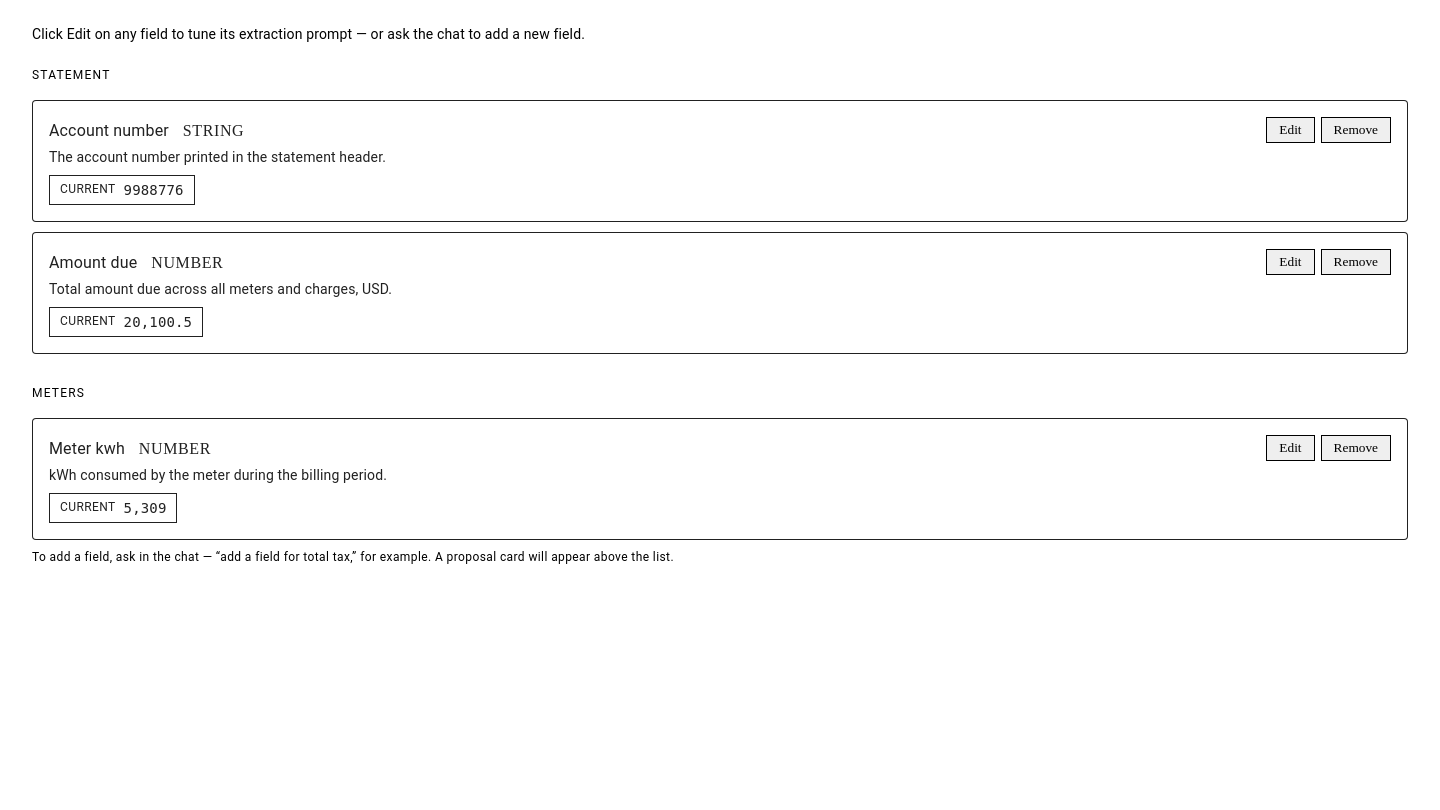
it: SchemaView (UI-01 Phase 1) › identifiers chip array supports add + remove via the editor (expand-inline-editor-fields)
Expected: the element with test id "schema-field-account_number" is shown, [32, 100, 1408, 222]
Expected: the element with test id "schema-field-value-account_number" shows "9988776", [124, 182, 184, 198]
Click the button with test id "schema-edit-field-account_number" at (1290, 130), box [1266, 117, 1315, 143]
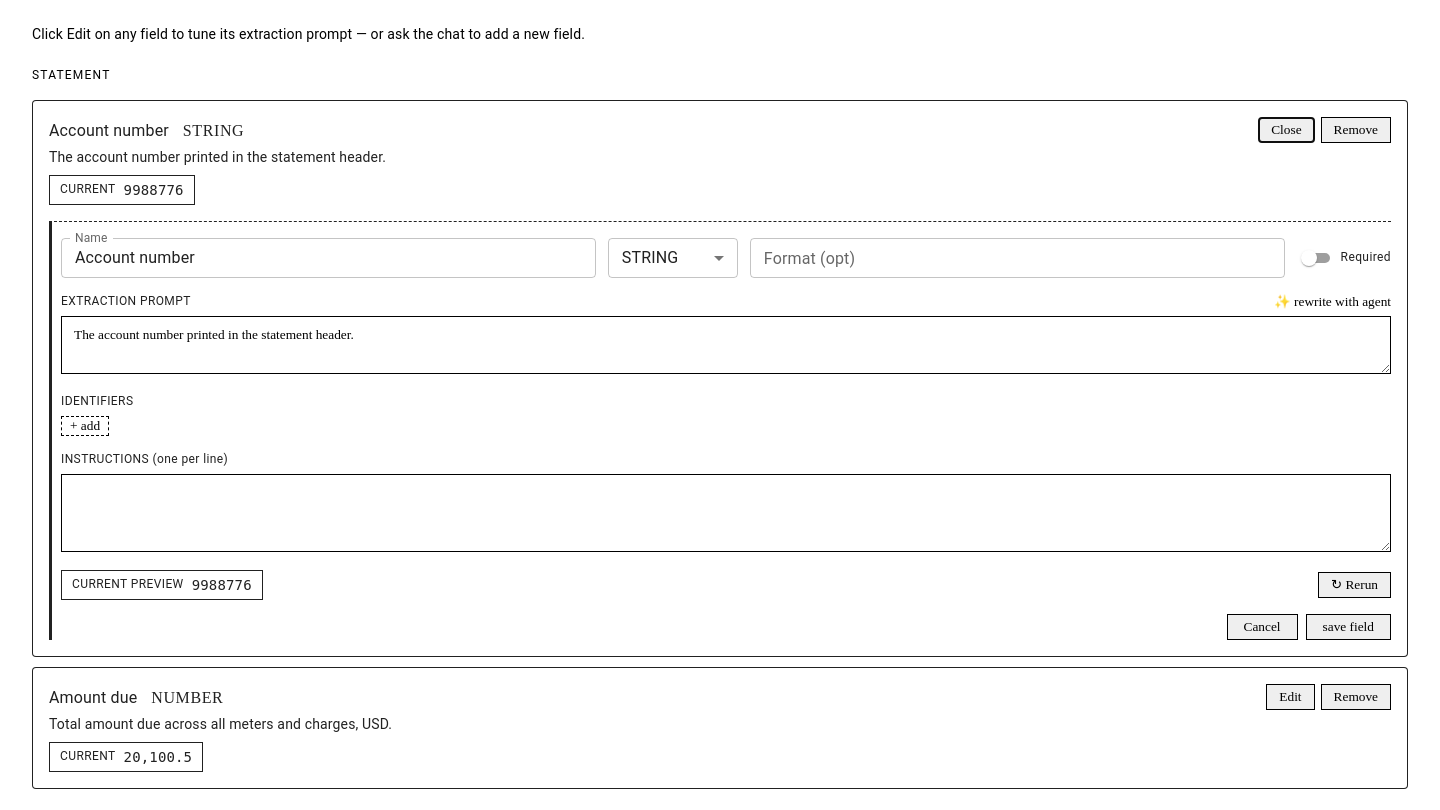
# Click + add → enters input mode.
Click the button with test id "schema-field-editor-identifier-add-account_number" at (85, 426), box [61, 416, 109, 436]
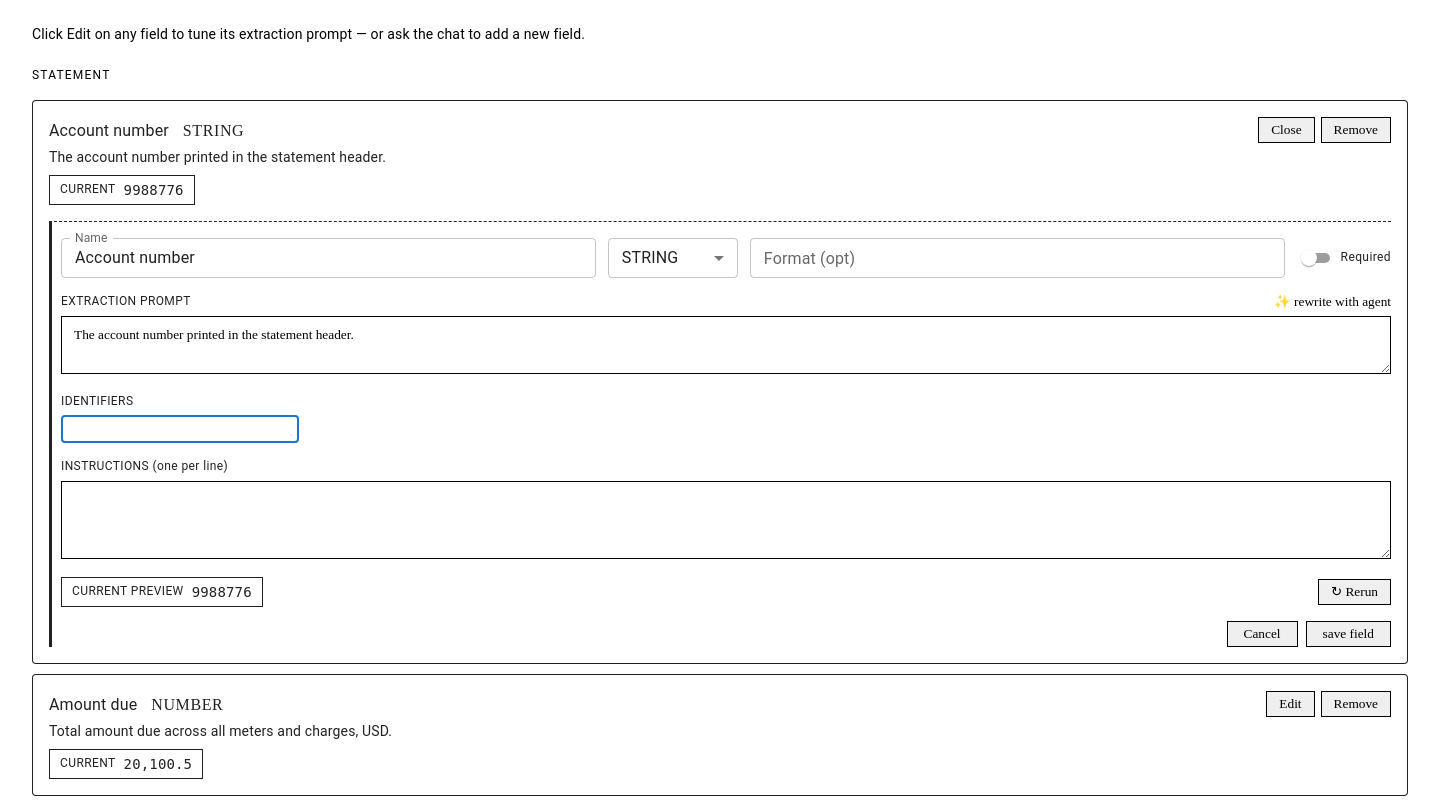
Type "Account No." into the field with test id "schema-field-editor-identifier-input-account_number" at (180, 429), box [61, 416, 299, 443]
Then press Enter
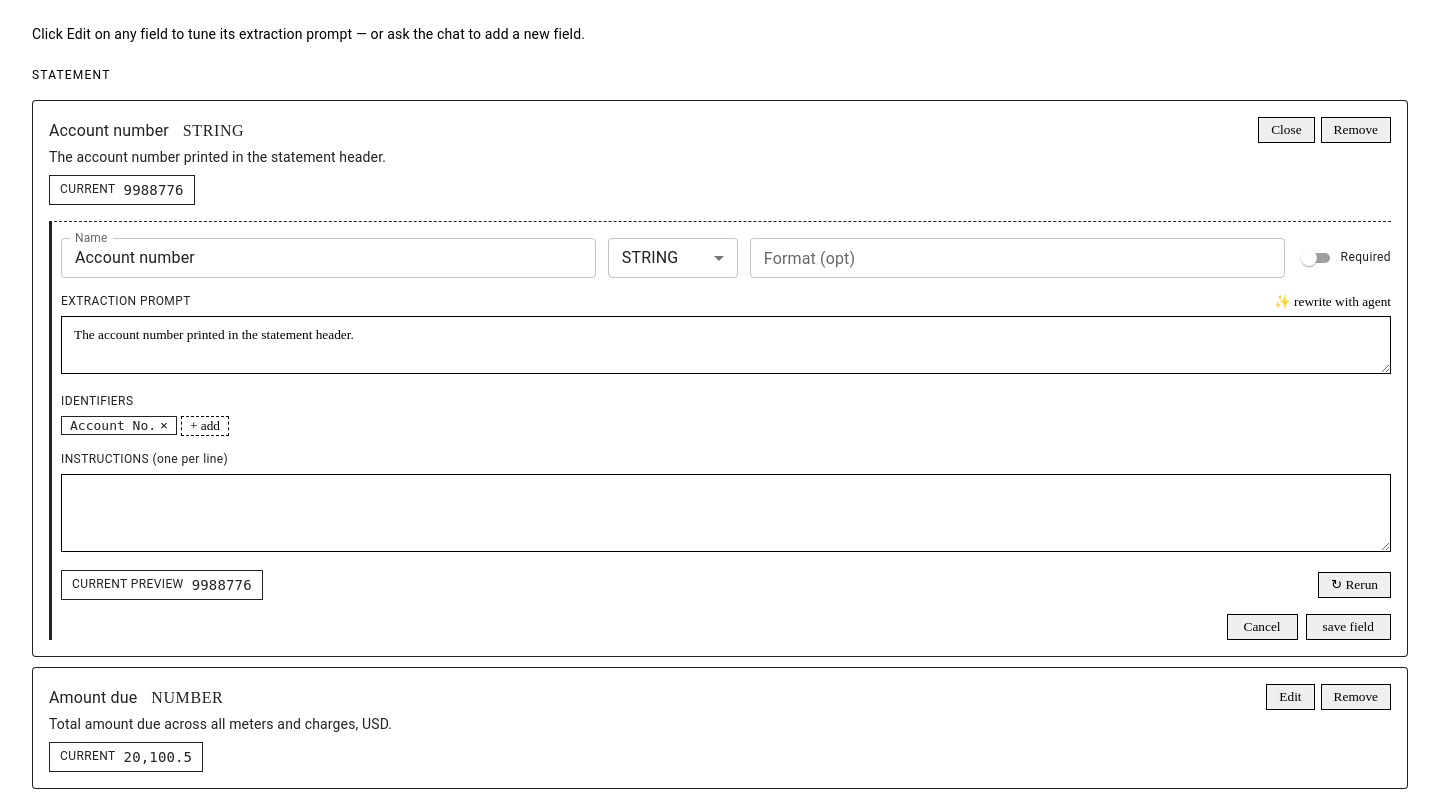
Expected: the element with test id "schema-field-editor-identifier-chip-account_number-0" shows "Account No.", [70, 418, 156, 433]
# Remove the chip.
Click the button with test id "schema-field-editor-identifier-remove-account_number-0" at (164, 426), box [160, 419, 168, 432]
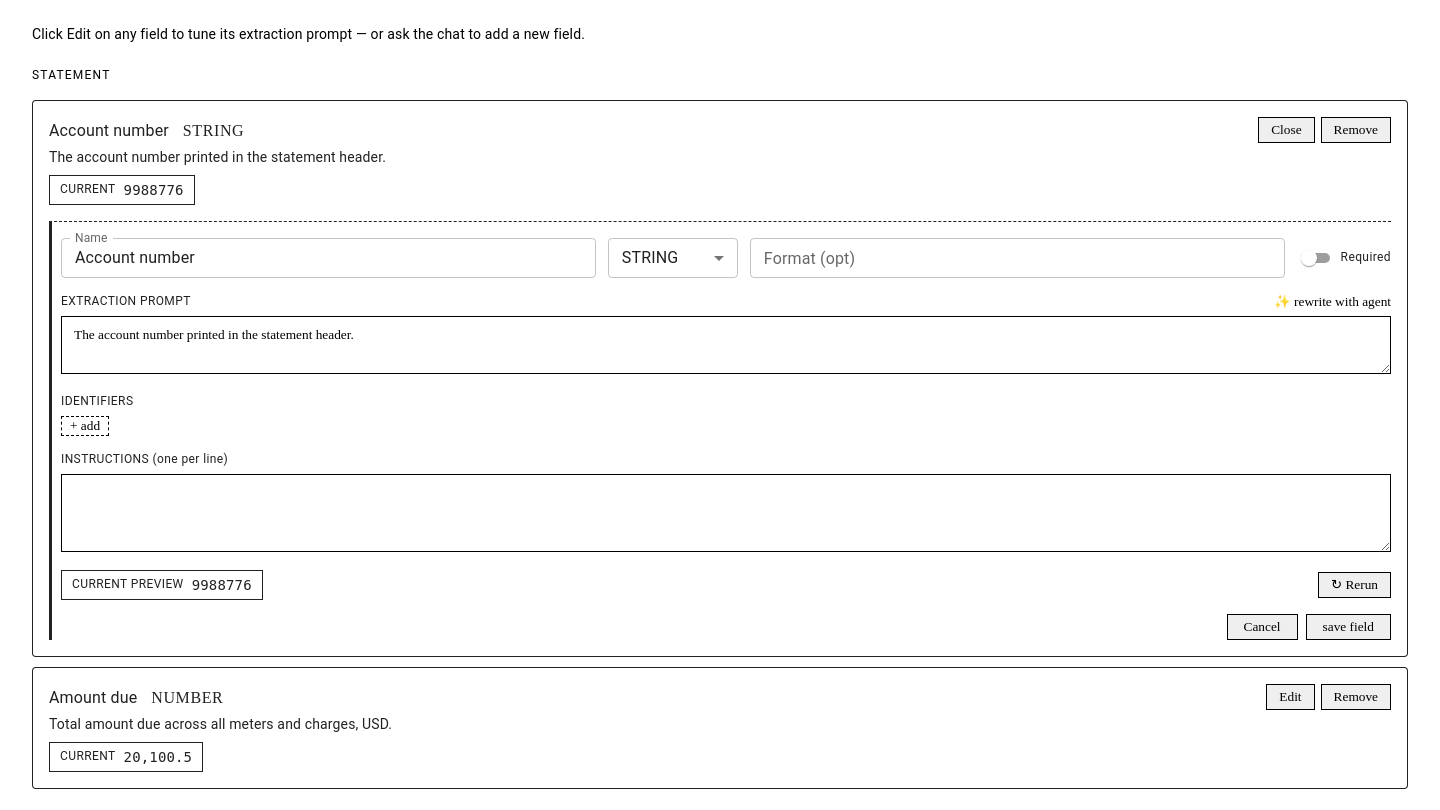
Expected: the element with test id "schema-field-editor-identifier-chip-account_number-0" is gone
